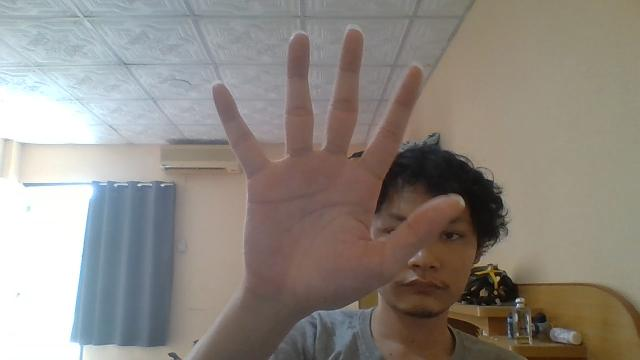Stop: (210, 26, 466, 314)
